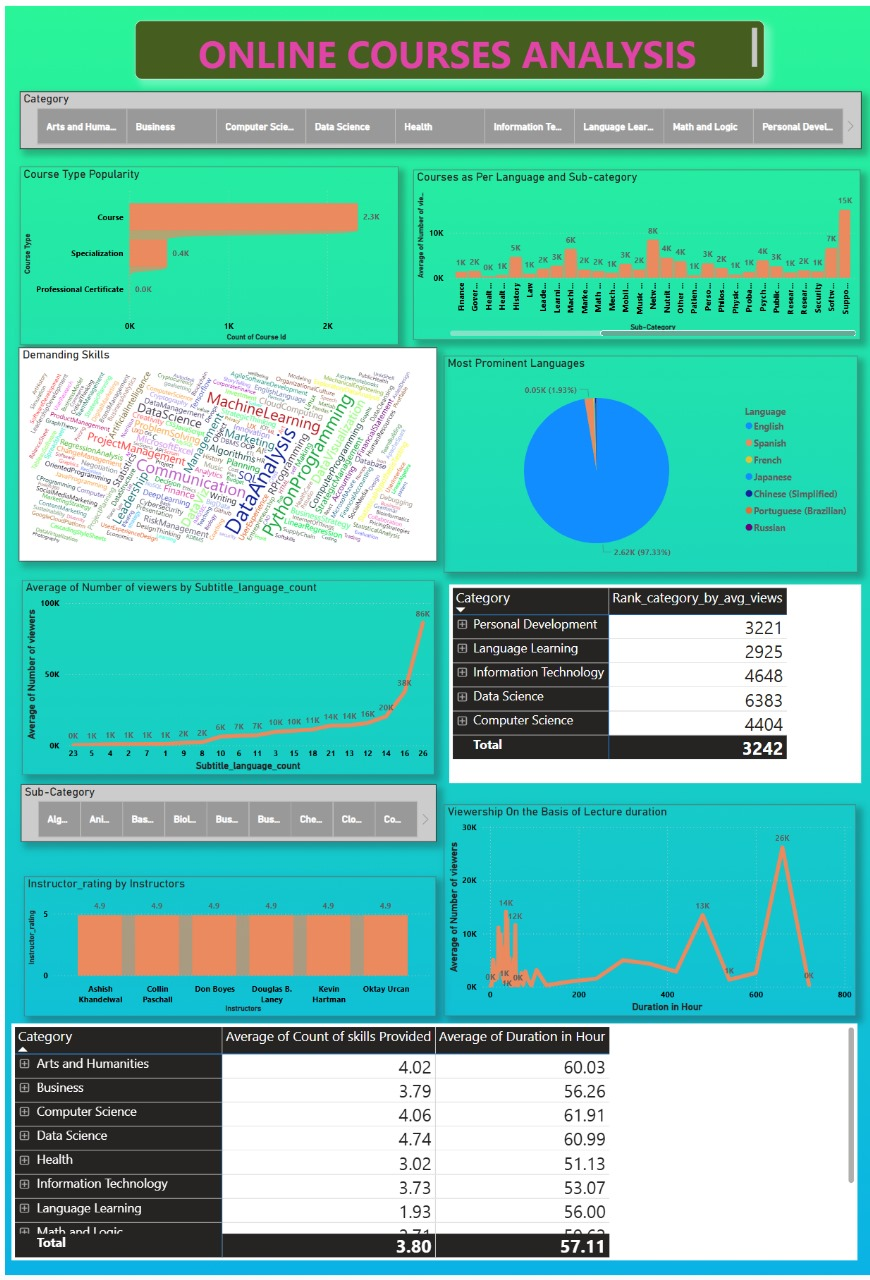

The page's visual inventory and layout, read from the dashboard file:
{"tool":"powerbi","page":{"name":"Page 1","canvas":[1300,1800],"ordinal":0},"visuals":[{"type":"textbox","box":[245,0,807.5,100],"z":0},{"type":"slicer","fields":{"Values":["Online_Courses.Category"]},"box":[26,100,1274,134],"z":1000},{"type":"barChart","title":"Course Type Popularity","fields":{"Category":["Online_Courses.Course Type"],"Y":["Online_Courses.Course Id"]},"box":[0,234,582,300],"z":2000},{"type":"columnChart","title":"Courses as per language and Sub-Category","fields":{"Category":["Online_Courses.Sub-Category","Online_Courses.Language"],"Y":["Online_Courses.Number of viewers"]},"box":[662,234,592,300],"z":3000},{"type":"pieChart","title":"Most Prominent Courses","fields":{"Category":["Online_Courses.Language"],"Y":["Online_Courses.Course Id"]},"box":[672,540,582,298],"z":4000},{"type":"pivotTable","fields":{"Rows":["Online_Courses.Category","Online_Courses.Language"],"Values":["Online_Courses.Rank_category_by_avg"]},"box":[803.3,838.3,496.7,213.3],"z":5000},{"type":"lineChart","title":"Number _of_viewes_as_per_Subtitles_count","fields":{"Y":["Online_Courses.Number of viewers"],"Category":["Online_Courses.Subtitle_language_count"]},"box":[0,540,582,358],"z":6000},{"type":"clusteredColumnChart","fields":{"Category":["Teachers.Instructors"],"Y":["Teachers.Instructors_rating"]},"box":[0,1008,582,358],"z":7000},{"type":"slicer","fields":{"Values":["Teachers.Sub-Category"]},"box":[0,898,582,110],"z":8000},{"type":"lineChart","title":"Viewership on the basis of lecture duration","fields":{"Category":["Online_Courses.Duration in Hours"],"Y":["Online_Courses.Number of viewers"]},"box":[650,1051.7,650,335],"z":9000},{"type":"pivotTable","fields":{"Rows":["Online_Courses.Category","Online_Courses.Sub-Category"],"Values":["Online_Courses.Count of Skills Provided","Online_Courses.Duration in Hours"]},"box":[0,1386,582,332],"z":10000}]}

Visuals, with their boxes in screenshot pixels (x1, y1, x2, y2):
textbox: (168,73,720,142)
slicer - Online_Courses.Category: (18,142,869,233)
"Course Type Popularity" barChart: (0,233,398,439)
"Courses as per language and Sub-Category" columnChart: (453,233,858,439)
"Most Prominent Courses" pieChart: (460,443,858,647)
pivotTable - Online_Courses.Category x Online_Courses.Language: (550,647,869,793)
"Number _of_viewes_as_per_Subtitles_count" lineChart: (0,443,398,688)
clusteredColumnChart - Teachers.Instructors x Teachers.Instructors_rating: (0,763,398,1008)
slicer - Teachers.Sub-Category: (0,688,398,763)
"Viewership on the basis of lecture duration" lineChart: (445,793,869,1022)
pivotTable - Online_Courses.Category x Online_Courses.Sub-Category: (0,1022,398,1249)
